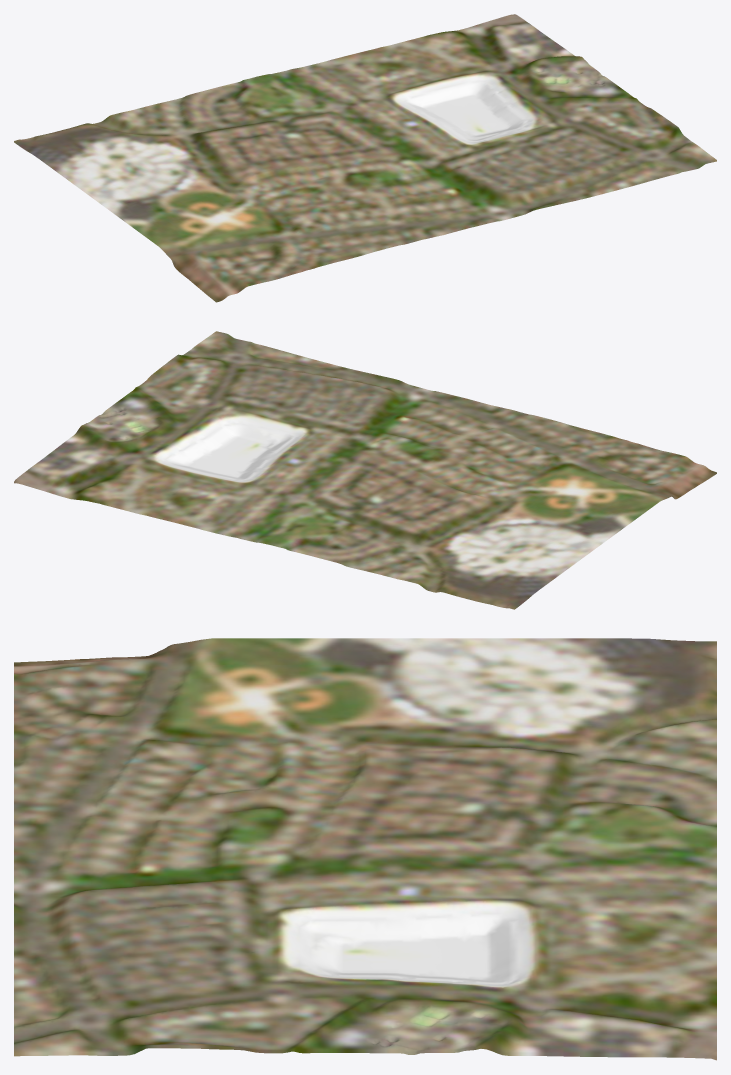
The model's file is terrain_r4_c4.glb.
The picture shows the model from 3 angles, top to bottom: view 1: azimuth 30°, elevation 25°; view 2: azimuth 150°, elevation 25°; view 3: azimuth 270°, elevation 25°; orthographic projection. The views are drawn at different scales.
Visible parts, largest first — view 1: terrain_r4_c4_lod0; view 2: terrain_r4_c4_lod0; view 3: terrain_r4_c4_lod0.
Part boxes in pixels (x1,y1,x2,y2): terrain_r4_c4_lod0: [14, 14, 716, 302]; terrain_r4_c4_lod0: [14, 331, 716, 609]; terrain_r4_c4_lod0: [14, 638, 716, 1060].
Bounding box in the file's own units: 1125 × 53.63 × 787.
Materials: 1 (1 with a texture image).
